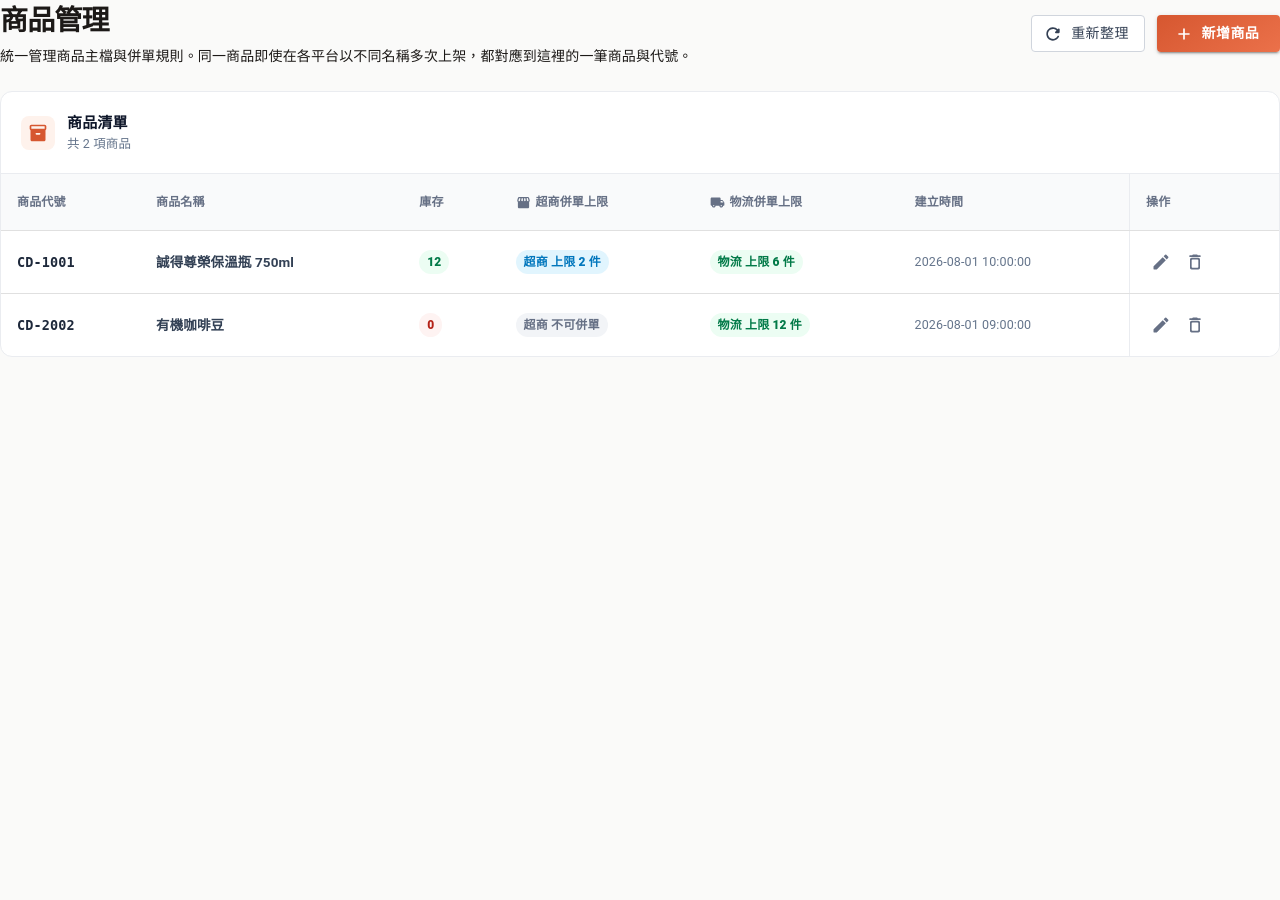
Test case: 修改失敗時錯誤留在對話框內且不關閉
This screenshot has width=1280, height=900.
Expected: the text "誠得尊榮保溫瓶 750ml" is shown, [156,254,294,270]
Click the button named "修改商品" in the row of "CD-1001". click: (1161, 262)
box: [1146,247,1176,277]
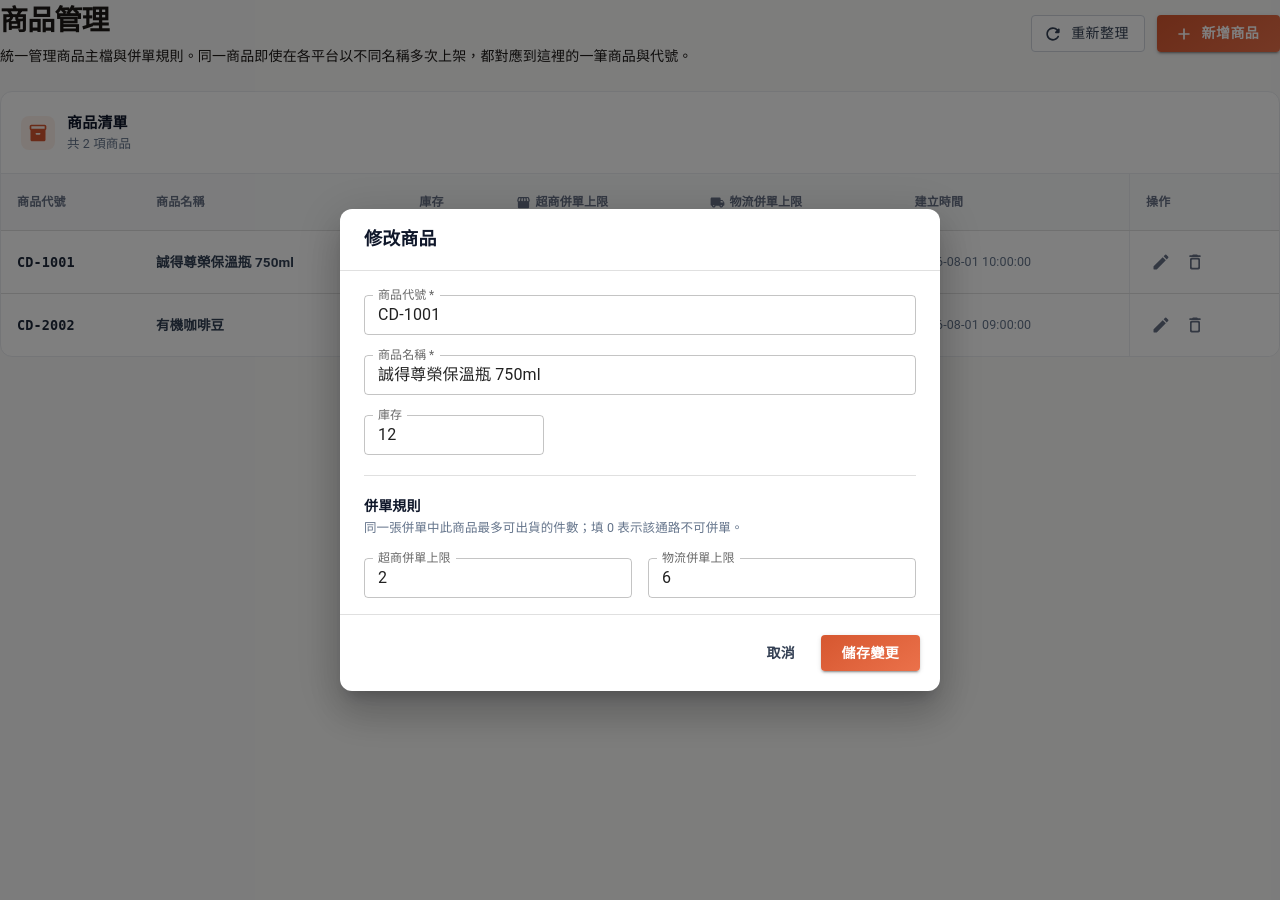
Click the button "儲存變更". click: (870, 653)
box: [821,635,920,671]
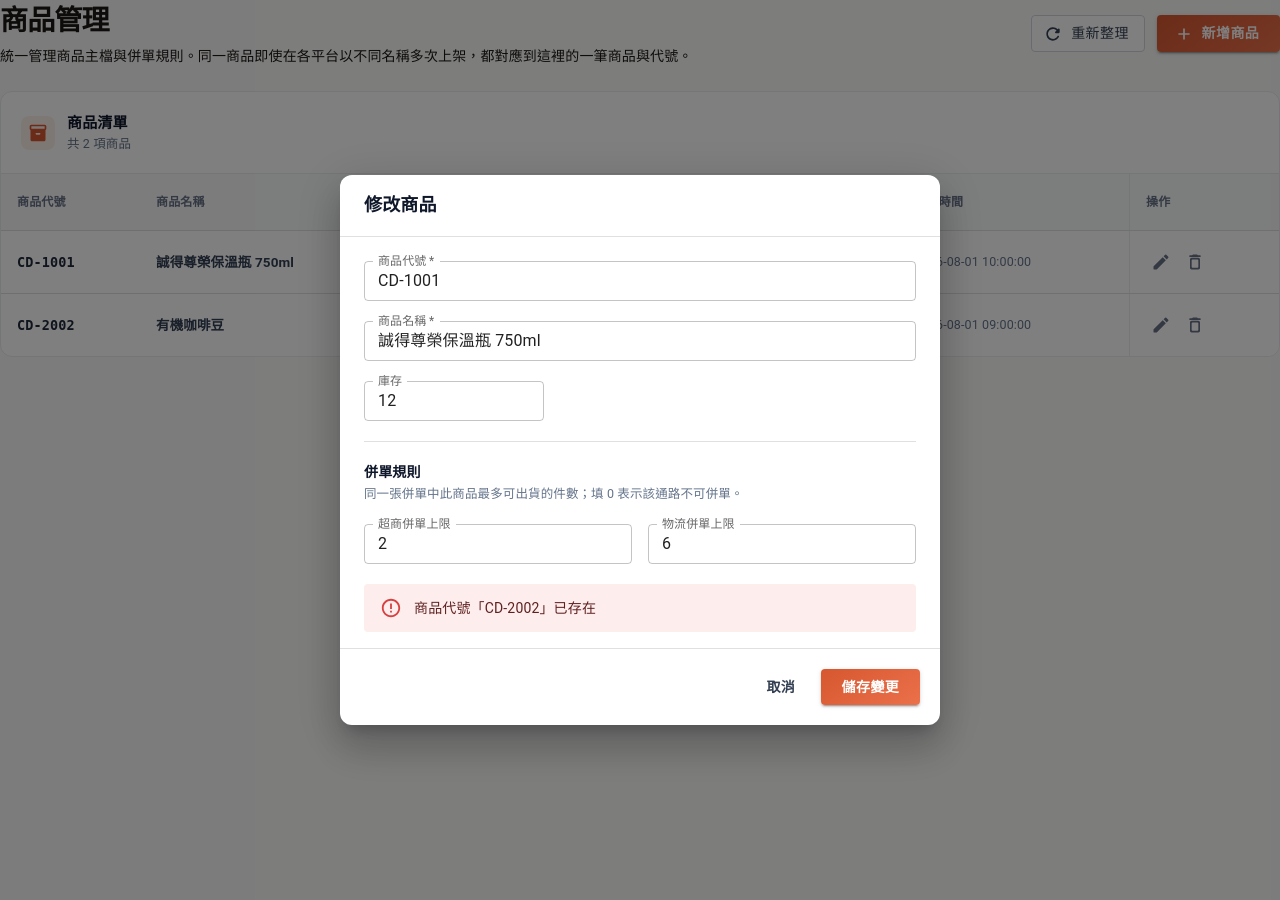
Expected: the dialog is shown, [340,175,940,725]
Expected: the text "商品代號「CD-2002」已存在" is shown, [414,600,596,616]
